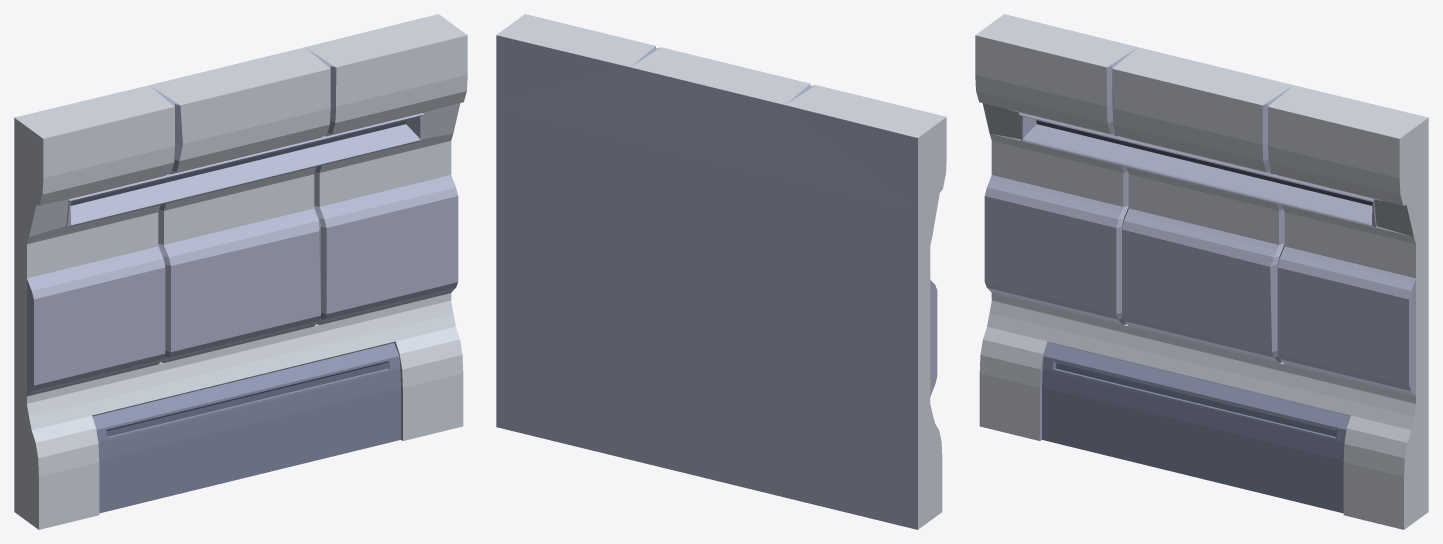
Rendered from Wall1.FBX.
3 renders of one model, left to right at view 1: azimuth 30°, elevation 25°; view 2: azimuth 150°, elevation 25°; view 3: azimuth 330°, elevation 25°, orthographic.
Visible parts, largest first — view 1: Wall1; view 2: Wall1; view 3: Wall1.
Boxes of the visible parts, x1,y1,x2,y2 form: Wall1: (14, 14, 467, 529); Wall1: (496, 14, 946, 529); Wall1: (975, 14, 1428, 529).
Bounding box in the file's own units: 39.56 × 35.14 × 4.71.
